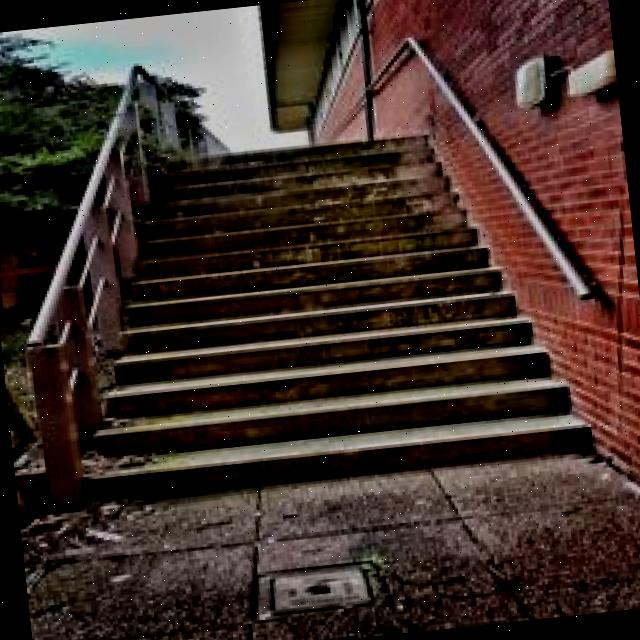stairs: (0, 58, 620, 530)
